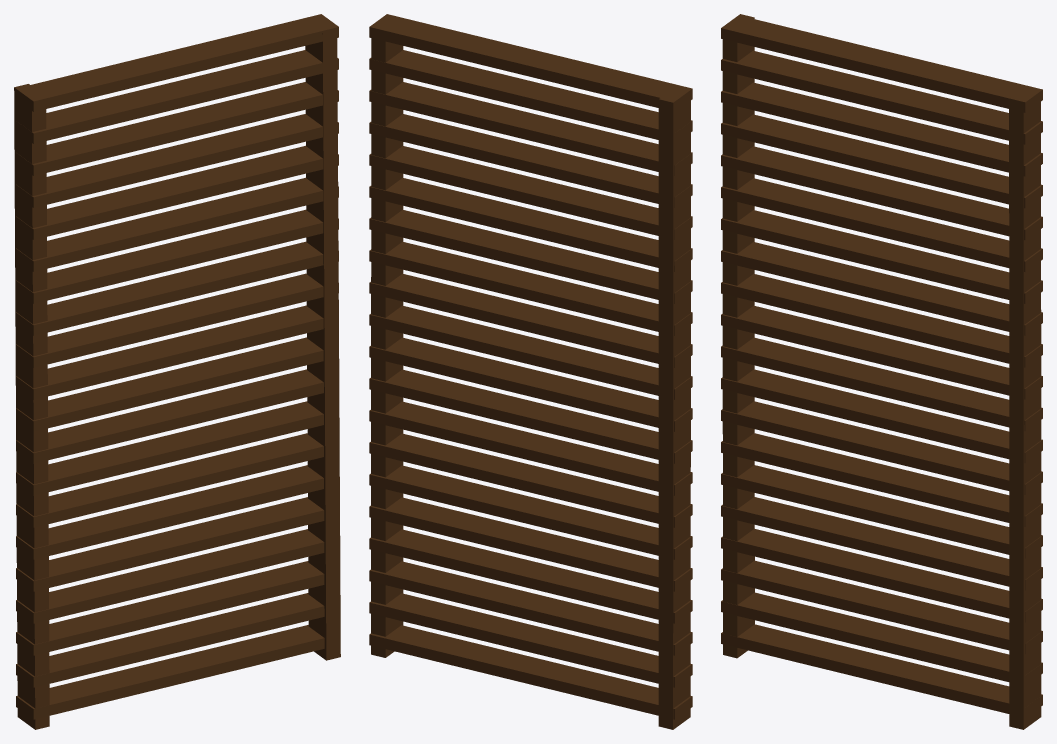
Rendered from Wall.glb.
3 views of the same model, side by side, from view 1: azimuth 30°, elevation 25°; view 2: azimuth 150°, elevation 25°; view 3: azimuth 330°, elevation 25° (orthographic).
Visible parts, largest first — view 1: Wall_with_planks_side_l, Wall_with_planks_side_r, Wall_With_Planks_plank_19, Wall_With_Planks_plank_17, Wall_With_Planks_plank_18, Wall_With_Planks_plank_11, Wall_With_Planks_plank_12, Wall_With_Planks_plank_16, Wall_With_Planks_plank_13, Wall_With_Planks_plank_14, Wall_With_Planks_plank_15, Wall_With_Planks_plank_01 (+10 smaller); view 2: Wall_with_planks_side_r, Wall_with_planks_side_l, Wall_With_Planks_plank_19, Wall_With_Planks_plank_00, Wall_With_Planks_plank_01, Wall_With_Planks_plank_02, Wall_With_Planks_plank_03, Wall_With_Planks_plank_04, Wall_With_Planks_plank_05, Wall_With_Planks_plank_06, Wall_With_Planks_plank_07, Wall_With_Planks_plank_08 (+10 smaller); view 3: Wall_with_planks_side_l, Wall_with_planks_side_r, Wall_With_Planks_plank_19, Wall_With_Planks_plank_15, Wall_With_Planks_plank_14, Wall_With_Planks_plank_18, Wall_With_Planks_plank_13, Wall_With_Planks_plank_17, Wall_With_Planks_plank_12, Wall_With_Planks_plank_11, Wall_With_Planks_plank_10, Wall_With_Planks_plank_16 (+10 smaller).
Boxes of the visible parts, x1,y1,x2,y2 form: Wall_with_planks_side_l: (305, 14, 340, 660); Wall_with_planks_side_r: (14, 84, 49, 729); Wall_With_Planks_plank_19: (16, 14, 338, 111); Wall_With_Planks_plank_17: (16, 82, 338, 175); Wall_With_Planks_plank_18: (16, 50, 338, 143); Wall_With_Planks_plank_11: (16, 273, 338, 367); Wall_With_Planks_plank_12: (16, 241, 338, 335); Wall_With_Planks_plank_16: (16, 114, 338, 207); Wall_With_Planks_plank_13: (16, 209, 338, 303); Wall_With_Planks_plank_14: (16, 177, 338, 271); Wall_With_Planks_plank_15: (16, 145, 338, 239); Wall_With_Planks_plank_01: (16, 593, 324, 687); Wall_with_planks_side_r: (658, 86, 690, 729); Wall_with_planks_side_l: (371, 14, 403, 657); Wall_With_Planks_plank_19: (369, 14, 692, 111); Wall_With_Planks_plank_00: (369, 625, 692, 719); Wall_With_Planks_plank_01: (369, 593, 692, 687); Wall_With_Planks_plank_02: (369, 561, 692, 655); Wall_With_Planks_plank_03: (369, 529, 692, 623); Wall_With_Planks_plank_04: (369, 497, 692, 591); Wall_With_Planks_plank_05: (369, 465, 692, 559); Wall_With_Planks_plank_06: (369, 433, 692, 527); Wall_With_Planks_plank_07: (369, 401, 692, 495); Wall_With_Planks_plank_08: (369, 369, 692, 463); Wall_with_planks_side_l: (1009, 85, 1041, 729); Wall_with_planks_side_r: (722, 14, 754, 658); Wall_With_Planks_plank_19: (721, 19, 1042, 112); Wall_With_Planks_plank_15: (721, 146, 1042, 240); Wall_With_Planks_plank_14: (721, 178, 1042, 271); Wall_With_Planks_plank_18: (721, 50, 1042, 144); Wall_With_Planks_plank_13: (721, 210, 1042, 303); Wall_With_Planks_plank_17: (721, 82, 1042, 176); Wall_With_Planks_plank_12: (721, 242, 1042, 335); Wall_With_Planks_plank_11: (721, 274, 1042, 367); Wall_With_Planks_plank_10: (721, 305, 1042, 399); Wall_With_Planks_plank_16: (721, 114, 1042, 208).
Bounding box in the file's own units: 1.5 × 2.95 × 0.1794.
